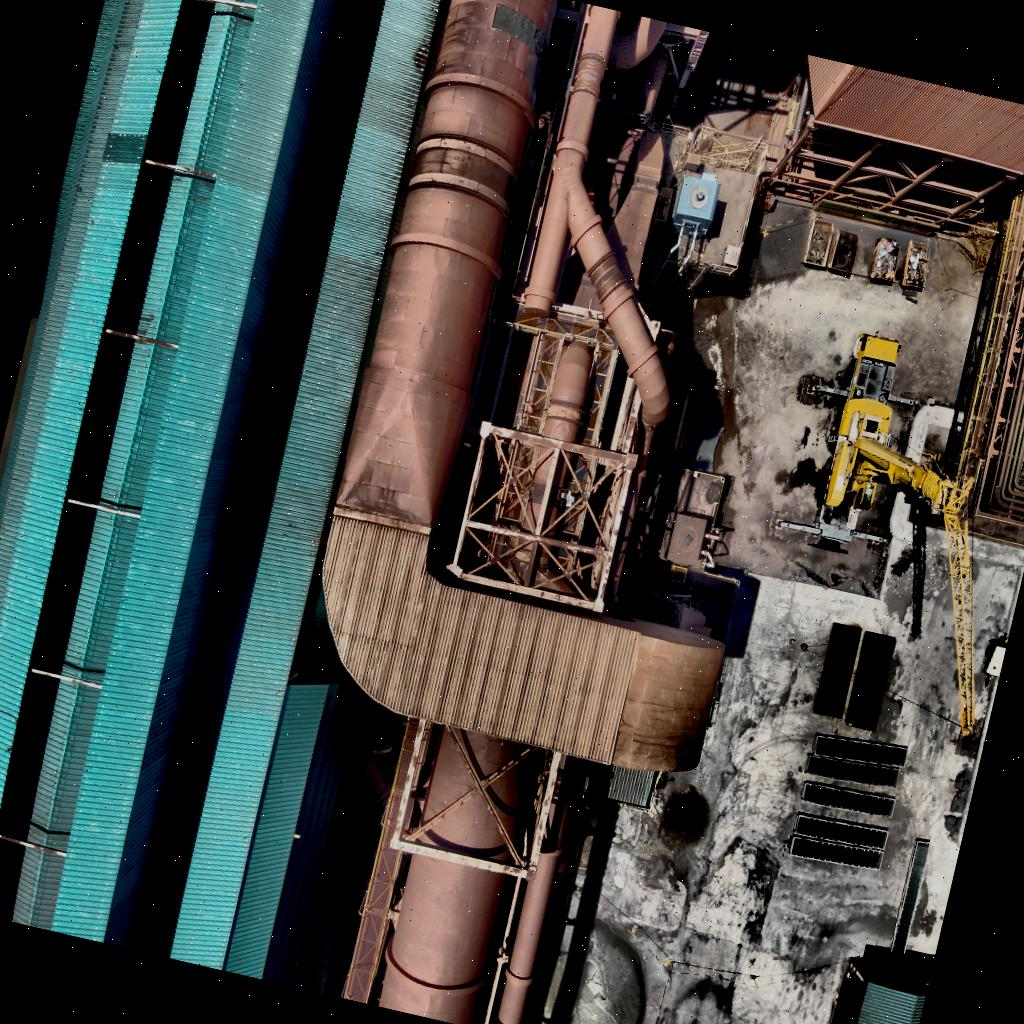Failures: (486, 1, 559, 66)
